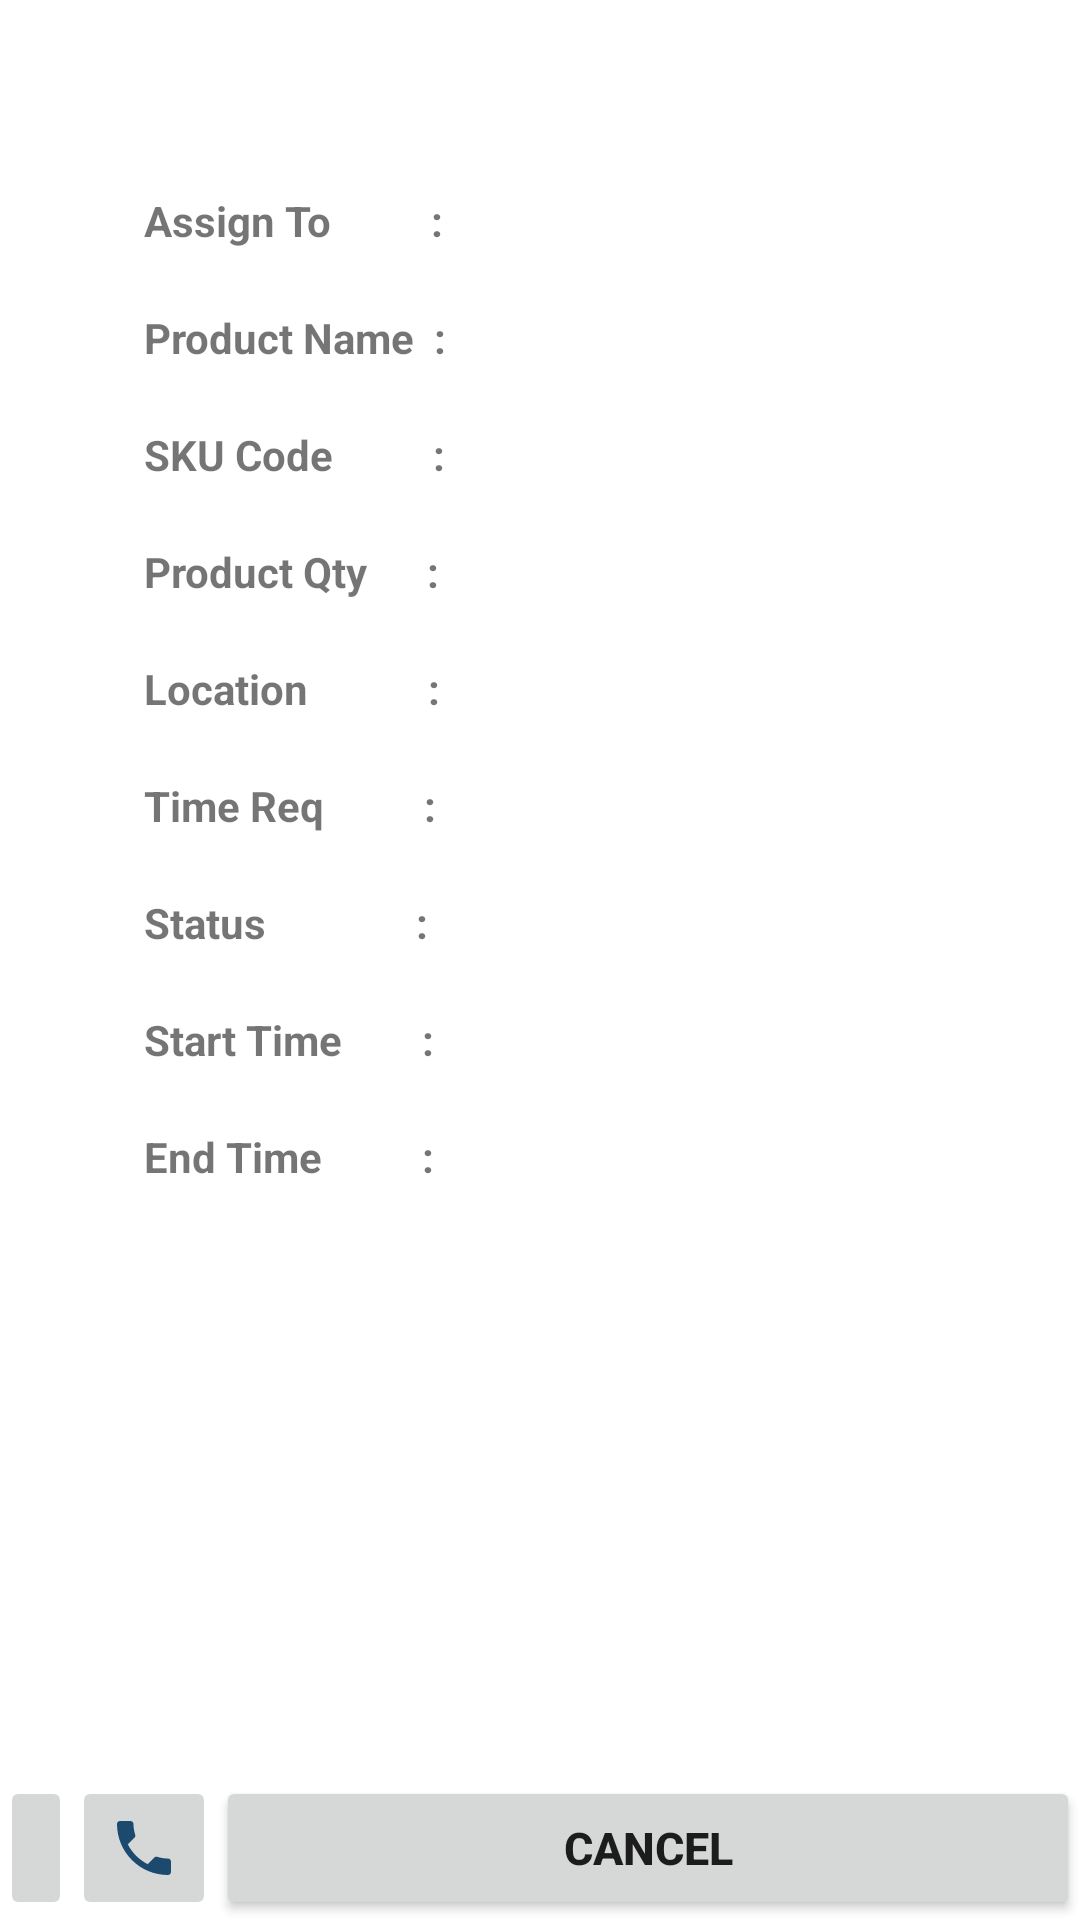

Named icons in this screenshot (1080px×1920px) and their bounding boxes, rect(x1, y1, x2, y2):
call: rect(84, 1794, 204, 1902)
